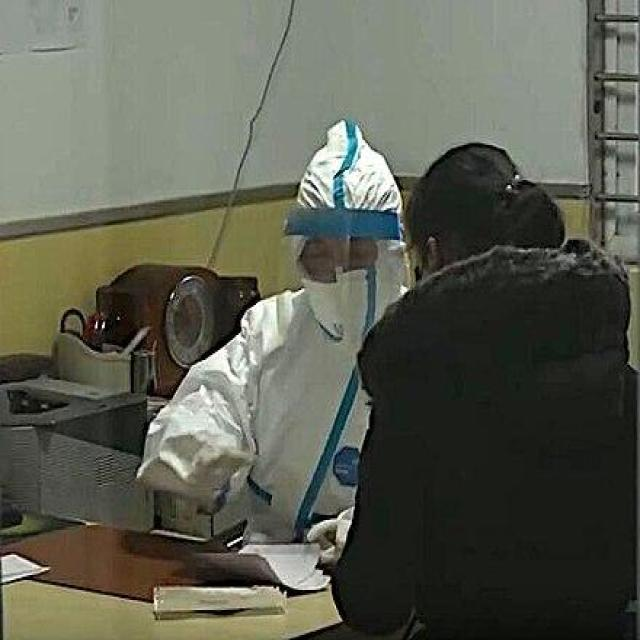Gloves: (307, 517, 356, 562)
